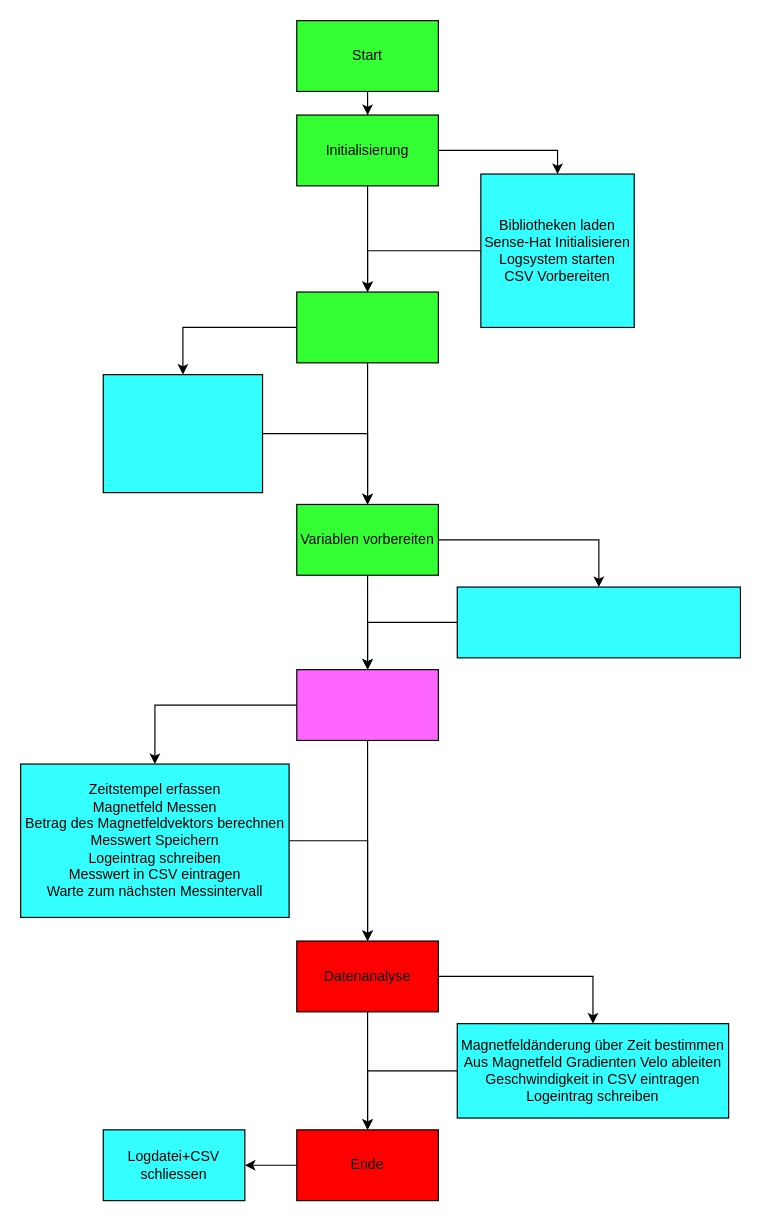
Some shapes in this 761 by 1221 pixel diagram are drawn without their labels. Here are the shapes that lost their labels. From the top down, the centre of each, then its label:
At [367,327]: "Konstanten Festlegen".
At [182,433]: "Messintervall Festlegen Gesamtdauer und Anzahl".
At [598,622]: "Speicher für Magnetfeld Daten Anlegen Startzeit Erfassen".
At [367,704]: "Messschleife beginnen".
